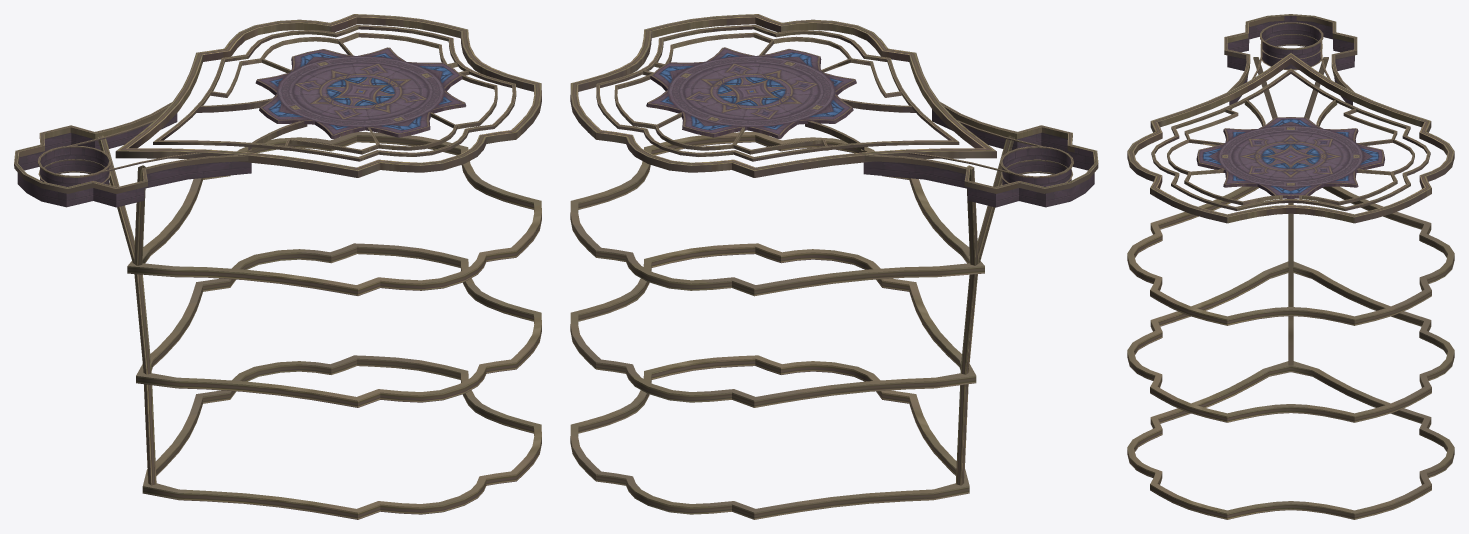
The model's file is SD_xs_taizi04.FBX.
3 views of the same model, side by side, from view 1: azimuth 30°, elevation 25°; view 2: azimuth 150°, elevation 25°; view 3: azimuth 270°, elevation 25° (orthographic). The views are drawn at different scales.
Visible parts, largest first — view 1: SD_xs_taizi04; view 2: SD_xs_taizi04; view 3: SD_xs_taizi04.
Part boxes in pixels (bbox=[...]): SD_xs_taizi04: bbox=[14, 14, 541, 519]; SD_xs_taizi04: bbox=[570, 14, 1098, 519]; SD_xs_taizi04: bbox=[1127, 14, 1454, 519].
Bounding box in the file's own units: 1583 × 1096 × 1075.
1 material, 1 textured.
